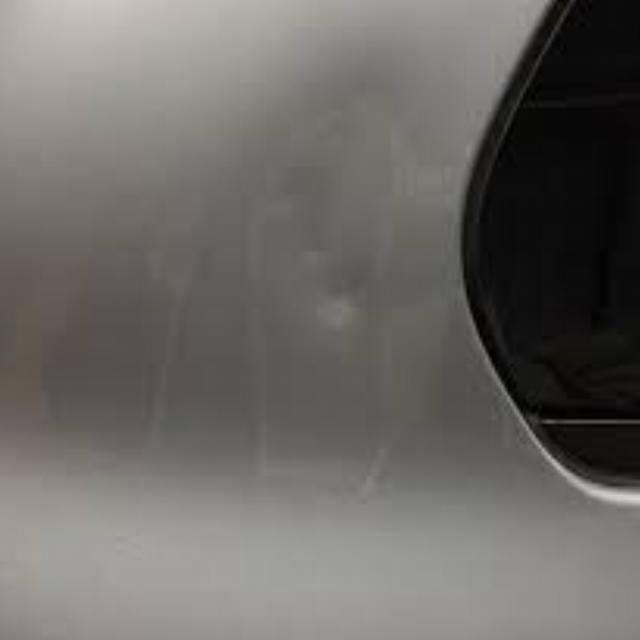dents: (305, 215, 405, 362)
